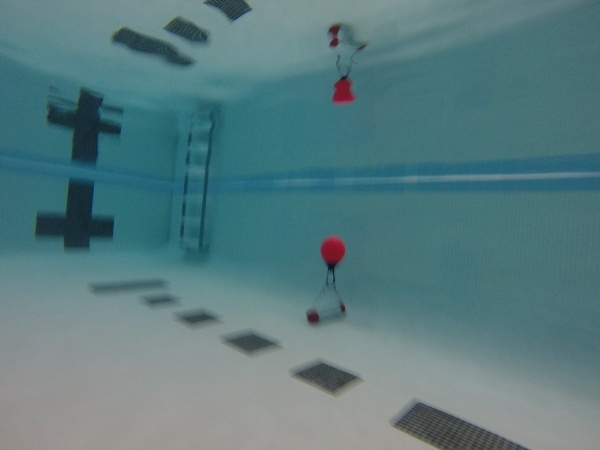buoy_red: (316, 234, 348, 273)
